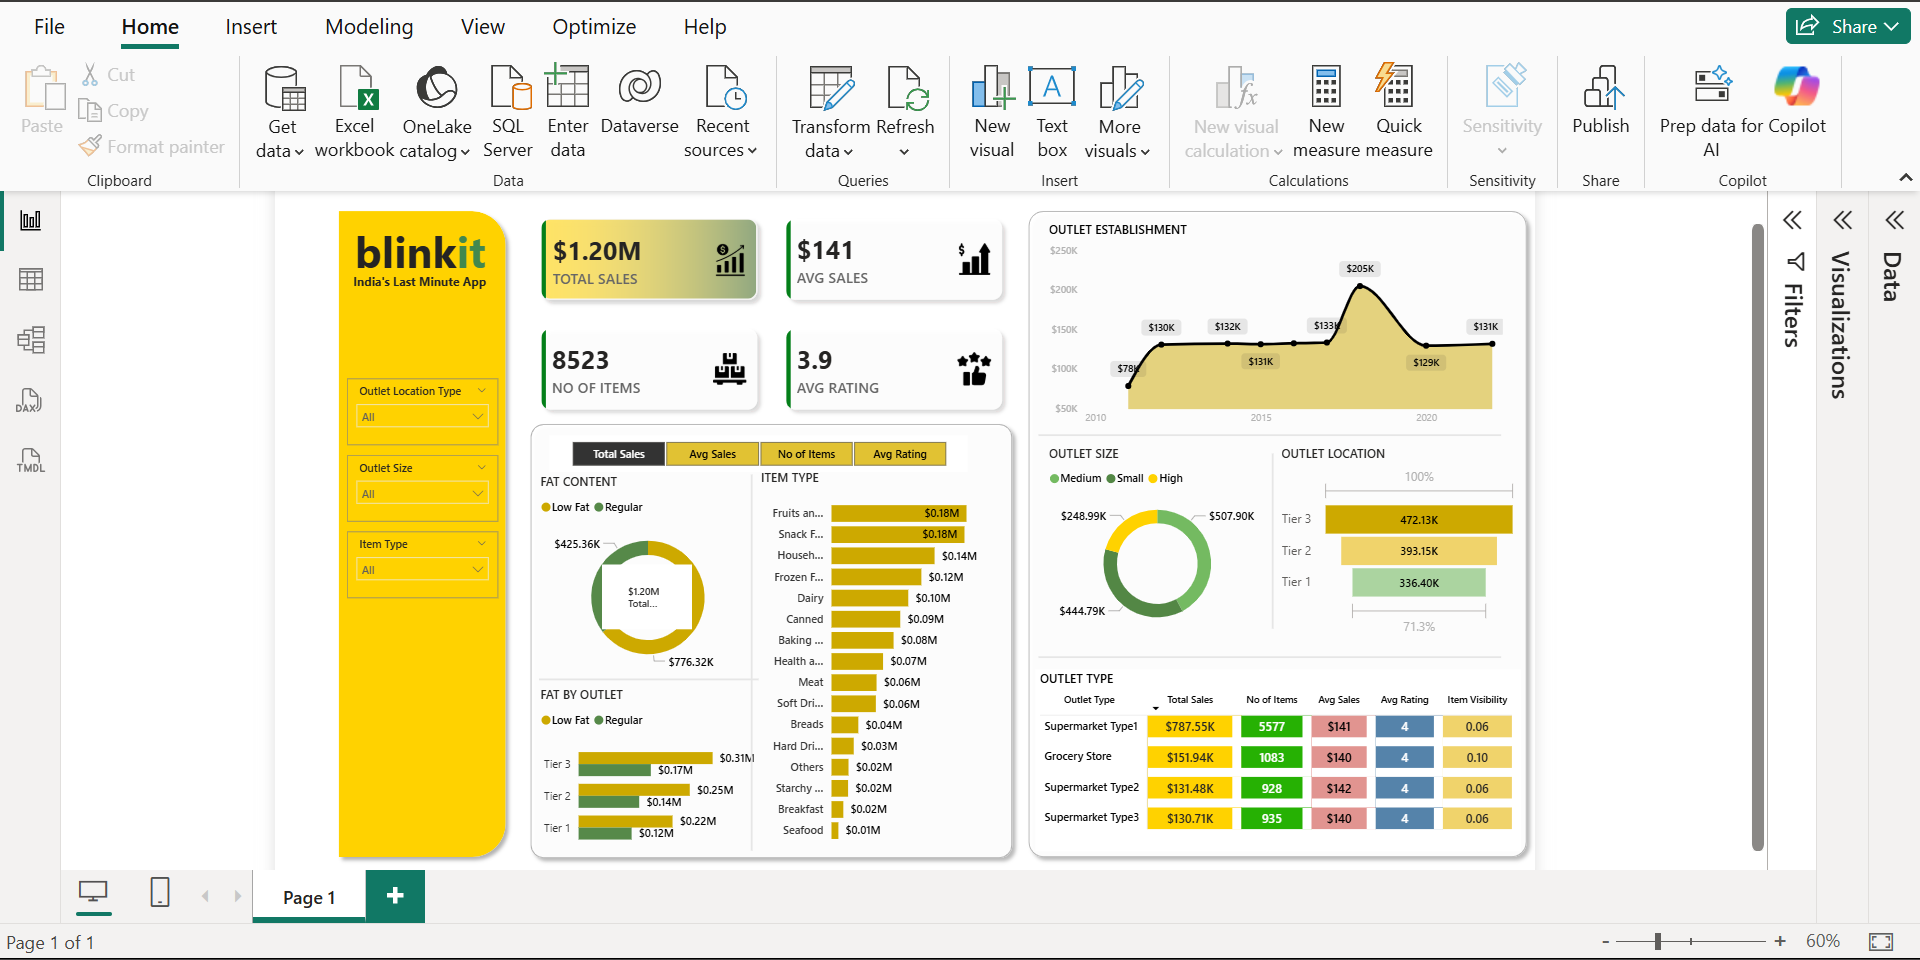

This screenshot's page, from the dashboard's own definition file:
{"tool":"powerbi","page":{"name":"Page 1","canvas":[1400,800],"ordinal":0},"visuals":[{"type":"shape","box":[62.5,37.5,203.6,735.7],"z":0},{"type":"textbox","box":[74.2,51.3,173.2,76],"z":1000},{"type":"textbox","box":[74.2,107.8,171.4,38.9],"z":2000},{"type":"cardVisual","fields":{"Data":["BlinkIT Grocery Data.Total Sales","BlinkIT Grocery Data.Avg Sales","BlinkIT Grocery Data.No of Items","BlinkIT Grocery Data.Avg Rating"]},"box":[266.1,25.6,570,270],"z":3000},{"type":"shape","box":[275.7,273.9,553.2,500.2],"z":4000},{"type":"donutChart","title":"FAT CONTENT","fields":{"Y":["BlinkIT Grocery Data.Avg Sales"],"Category":["BlinkIT Grocery Data.Item Fat Content"]},"box":[290,336,248,230],"z":5000},{"type":"slicer","fields":{"Values":["Metrics.Metrics"]},"box":[305.8,295.1,464.8,40.6],"z":6000},{"type":"cardVisual","fields":{"Data":["BlinkIT Grocery Data.Total Sales"]},"box":[364,438,100,72],"z":7000},{"type":"clusteredBarChart","title":"FAT BY OUTLET","fields":{"Y":["BlinkIT Grocery Data.Avg Sales"],"Category":["BlinkIT Grocery Data.Outlet Location Type"],"Series":["BlinkIT Grocery Data.Item Fat Content"]},"box":[289.8,572.6,247.4,190.9],"z":8000},{"type":"shape","box":[294,560,244,12],"z":9000},{"type":"shape","box":[522,338,16,418],"z":10000},{"type":"barChart","title":"ITEM TYPE","fields":{"Y":["BlinkIT Grocery Data.Avg Sales"],"Category":["BlinkIT Grocery Data.Item Type"]},"box":[535.5,332.3,279.2,425.9],"z":11000},{"type":"shape","box":[828.6,37.5,571.4,735.7],"z":12000},{"type":"lineChart","title":"OUTLET   ESTABLISHMENT","fields":{"Y":["BlinkIT Grocery Data.Total Sales"],"Category":["BlinkIT Grocery Data.Outlet Establishment Year"]},"box":[855.4,57.1,514.3,235.7],"z":13000},{"type":"shape","box":[848.2,287.5,514.3,12.5],"z":14000},{"type":"donutChart","title":"OUTLET SIZE","fields":{"Y":["BlinkIT Grocery Data.Total Sales"],"Category":["BlinkIT Grocery Data.Outlet Size"]},"box":[855.4,305.4,250,217.9],"z":15000},{"type":"shape","box":[1105.4,314.3,7.1,194.6],"z":16000},{"type":"funnel","title":"OUTLET LOCATION","fields":{"Y":["Sum(BlinkIT Grocery Data.Sales)"],"Category":["BlinkIT Grocery Data.Outlet Location Type"]},"box":[1112.5,305.4,271.4,217.9],"z":17000},{"type":"shape","box":[848.2,535.7,514.3,12.5],"z":18000},{"type":"pivotTable","title":"OUTLET TYPE","fields":{"Rows":["BlinkIT Grocery Data.Outlet Type"],"Values":["BlinkIT Grocery Data.Total Sales","BlinkIT Grocery Data.No of Items","BlinkIT Grocery Data.Avg Sales","BlinkIT Grocery Data.Avg Rating","Avg(BlinkIT Grocery Data.Item Visibility)"]},"box":[844.8,555.6,539.3,201.8],"z":19000},{"type":"slicer","fields":{"Values":["BlinkIT Grocery Data.Outlet Location Type"]},"box":[79.5,231.5,167.9,74.2],"z":20000},{"type":"slicer","fields":{"Values":["BlinkIT Grocery Data.Outlet Size"]},"box":[79.5,316.4,167.9,74.2],"z":21000},{"type":"slicer","fields":{"Values":["BlinkIT Grocery Data.Item Type"]},"box":[79.5,401.2,167.9,74.2],"z":22000}]}

Visuals, with their boxes on the page's 1400x800 design canvas (x1, y1, x2, y2). These are canvas units, not pixel positions in the 1920x960 screenshot, which may show the page scaled, cropped or inside an application window:
shape: x1=62, y1=38, x2=266, y2=773
textbox: x1=74, y1=51, x2=247, y2=127
textbox: x1=74, y1=108, x2=246, y2=147
cardVisual - BlinkIT Grocery Data.Total Sales x BlinkIT Grocery Data.Avg Sales: x1=266, y1=26, x2=836, y2=296
shape: x1=276, y1=274, x2=829, y2=774
"FAT CONTENT" donutChart: x1=290, y1=336, x2=538, y2=566
slicer - Metrics.Metrics: x1=306, y1=295, x2=771, y2=336
cardVisual - BlinkIT Grocery Data.Total Sales: x1=364, y1=438, x2=464, y2=510
"FAT BY OUTLET" clusteredBarChart: x1=290, y1=573, x2=537, y2=764
shape: x1=294, y1=560, x2=538, y2=572
shape: x1=522, y1=338, x2=538, y2=756
"ITEM TYPE" barChart: x1=536, y1=332, x2=815, y2=758
shape: x1=829, y1=38, x2=1400, y2=773
"OUTLET   ESTABLISHMENT" lineChart: x1=855, y1=57, x2=1370, y2=293
shape: x1=848, y1=288, x2=1362, y2=300
"OUTLET SIZE" donutChart: x1=855, y1=305, x2=1105, y2=523
shape: x1=1105, y1=314, x2=1112, y2=509
"OUTLET LOCATION" funnel: x1=1112, y1=305, x2=1384, y2=523
shape: x1=848, y1=536, x2=1362, y2=548
"OUTLET TYPE" pivotTable: x1=845, y1=556, x2=1384, y2=757
slicer - BlinkIT Grocery Data.Outlet Location Type: x1=80, y1=232, x2=247, y2=306
slicer - BlinkIT Grocery Data.Outlet Size: x1=80, y1=316, x2=247, y2=391
slicer - BlinkIT Grocery Data.Item Type: x1=80, y1=401, x2=247, y2=475
